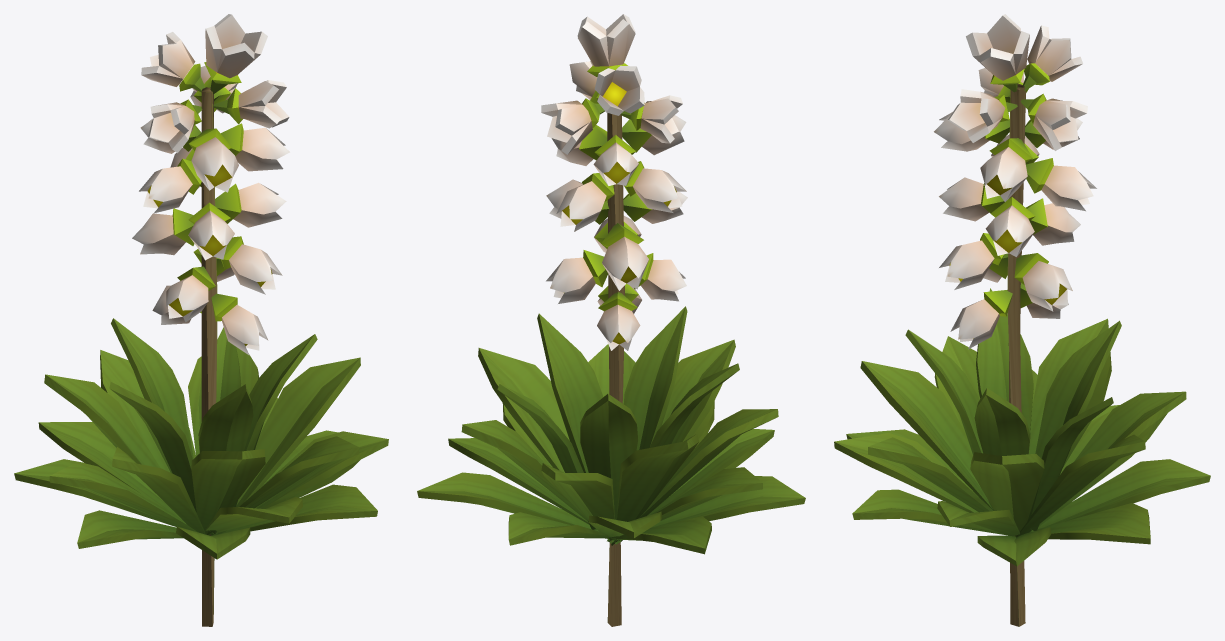
The model's file is Plant_Yucca_fbx.fbx.
3 views of the same model, side by side, from view 1: azimuth 30°, elevation 25°; view 2: azimuth 150°, elevation 25°; view 3: azimuth 270°, elevation 25° (orthographic).
Visible parts, largest first — view 1: Plant_Yucca_Leaves_LOD0, Plant_Yucca_Flower_LOD0; view 2: Plant_Yucca_Leaves_LOD0, Plant_Yucca_Flower_LOD0; view 3: Plant_Yucca_Leaves_LOD0, Plant_Yucca_Flower_LOD0.
Boxes of the visible parts, box(x1,y1,x2,y2) form: Plant_Yucca_Leaves_LOD0: box(14, 318, 388, 559); Plant_Yucca_Flower_LOD0: box(132, 14, 289, 626); Plant_Yucca_Leaves_LOD0: box(417, 306, 805, 554); Plant_Yucca_Flower_LOD0: box(541, 14, 687, 626); Plant_Yucca_Leaves_LOD0: box(834, 288, 1210, 566); Plant_Yucca_Flower_LOD0: box(934, 14, 1096, 626).
Size of what is drawn, in the model's own units: 187 by 327 by 184.
